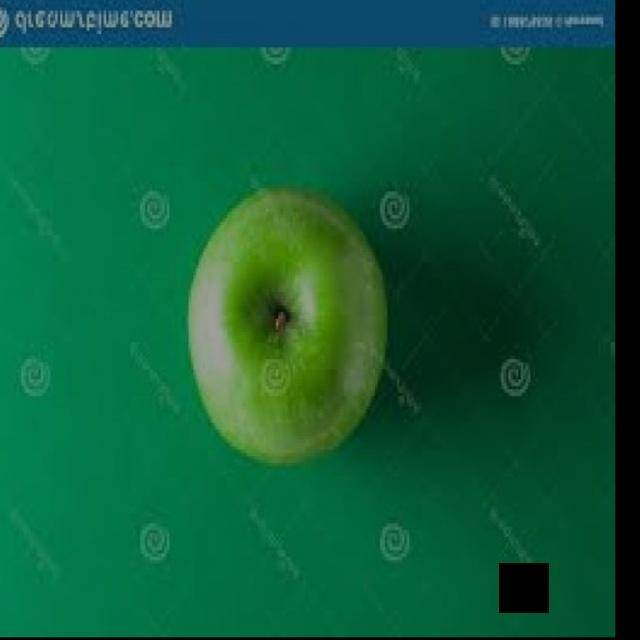green apple: (179, 193, 392, 466)
